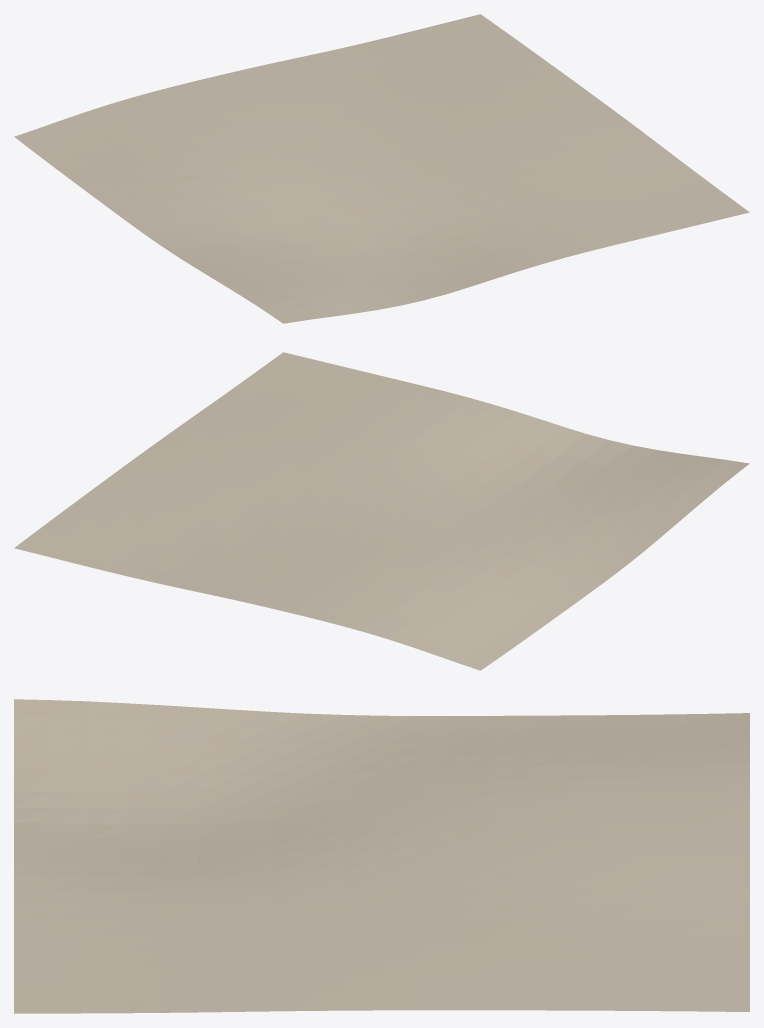
The model's file is bolak_-8_13.glb.
3 views of the same model, one above another, from view 1: azimuth 30°, elevation 25°; view 2: azimuth 150°, elevation 25°; view 3: azimuth 270°, elevation 25° (orthographic). The views are drawn at different scales.
Visible parts, largest first — view 1: Yer_Tuproq-col; view 2: Yer_Tuproq-col; view 3: Yer_Tuproq-col.
Boxes of the visible parts, bbox=[...] form: Yer_Tuproq-col: bbox=[14, 14, 749, 323]; Yer_Tuproq-col: bbox=[14, 352, 749, 670]; Yer_Tuproq-col: bbox=[14, 699, 749, 1013].
Bounding box in the file's own units: 400 × 11.15 × 400.
